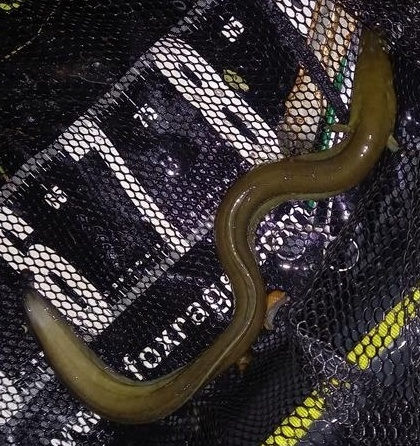Anguilla anguilla: (20, 20, 400, 426)
